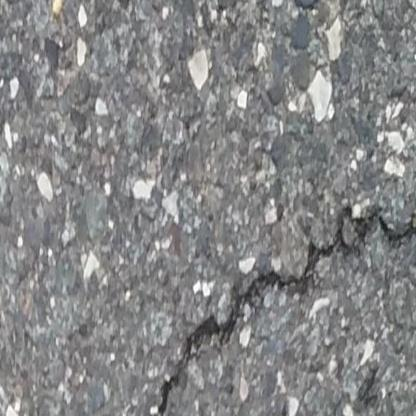Cracks: (127, 178, 416, 416)
